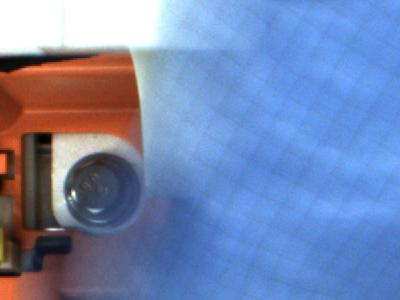nut_b: (56, 150, 140, 230)
